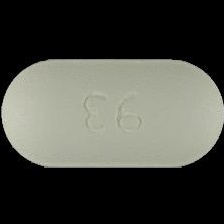0093-2263: (0, 0, 224, 224)
